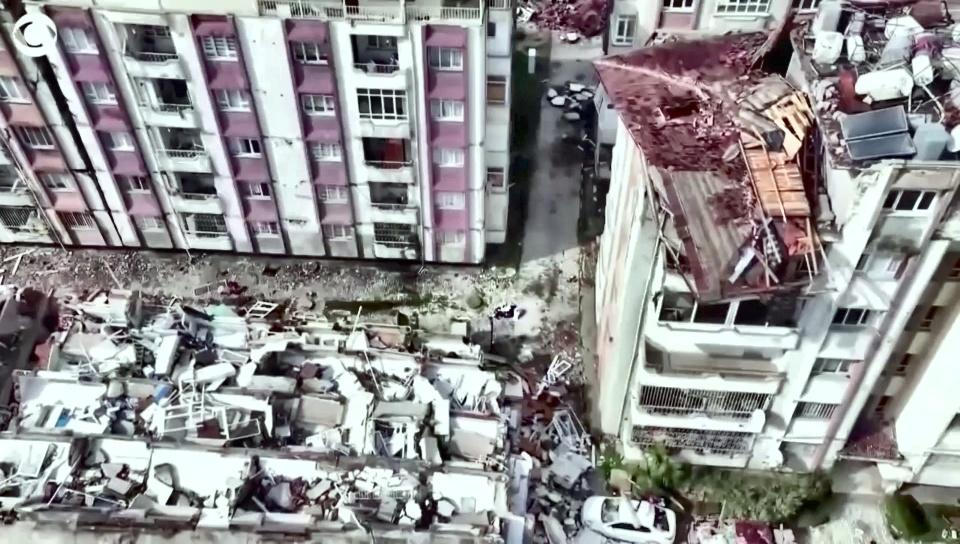kapali: (499, 231, 584, 543), (531, 65, 594, 191), (552, 0, 605, 55)
